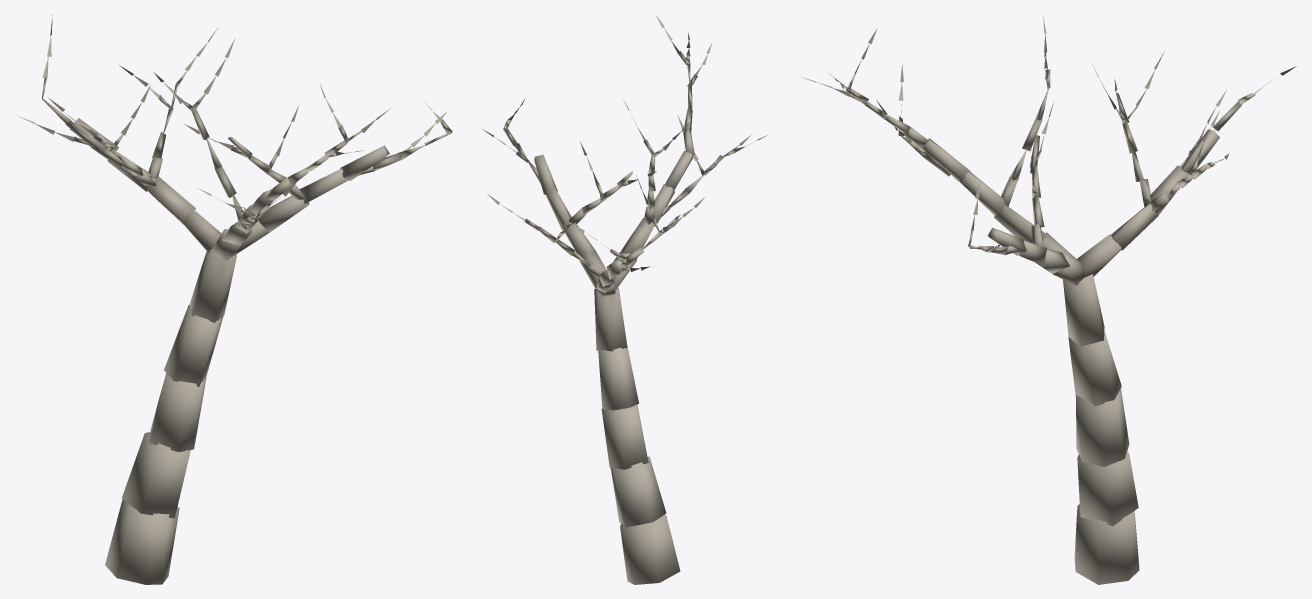
File: tree_dead_b_LOD1.glb
The picture shows the model from 3 angles, left to right: view 1: azimuth 30°, elevation 25°; view 2: azimuth 150°, elevation 25°; view 3: azimuth 270°, elevation 25°; orthographic projection. The views are drawn at different scales.
Visible parts, largest first — view 1: tree_dead_b_LOD1; view 2: tree_dead_b_LOD1; view 3: tree_dead_b_LOD1.
Boxes of the visible parts, <box> form: tree_dead_b_LOD1: <box>17,15,452,584</box>; tree_dead_b_LOD1: <box>482,14,768,584</box>; tree_dead_b_LOD1: <box>801,16,1296,584</box>.
Bounding box in the file's own units: 3.43 × 5.69 × 4.45.
